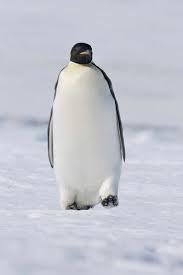emporer: (42, 37, 136, 213)
